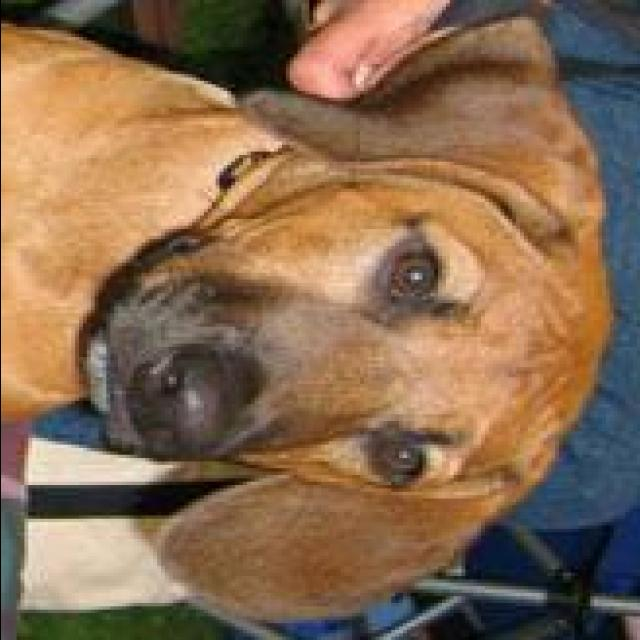rhodesian_ridgeback: (8, 11, 616, 626)
